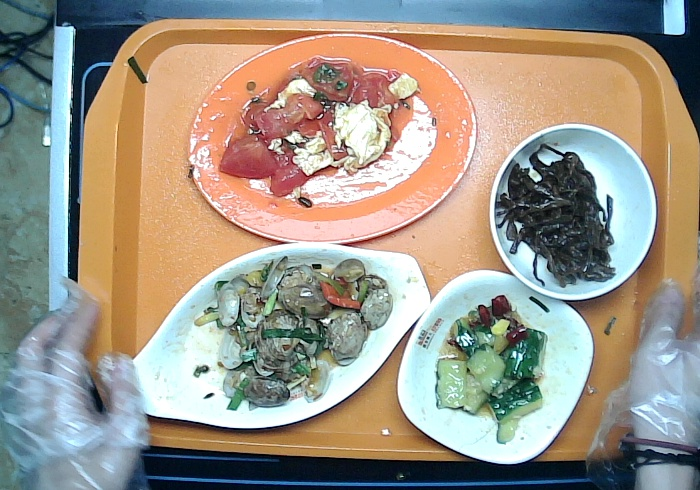NLDX-Bai_Se_Xiao_Fang_Die: (397, 269, 594, 466)
NLDX-Fan_Wan: (489, 123, 657, 302)
NLDX-Ju_Se_Pan: (188, 34, 478, 246)
NLDX-Yu_Pan: (122, 242, 432, 430)
